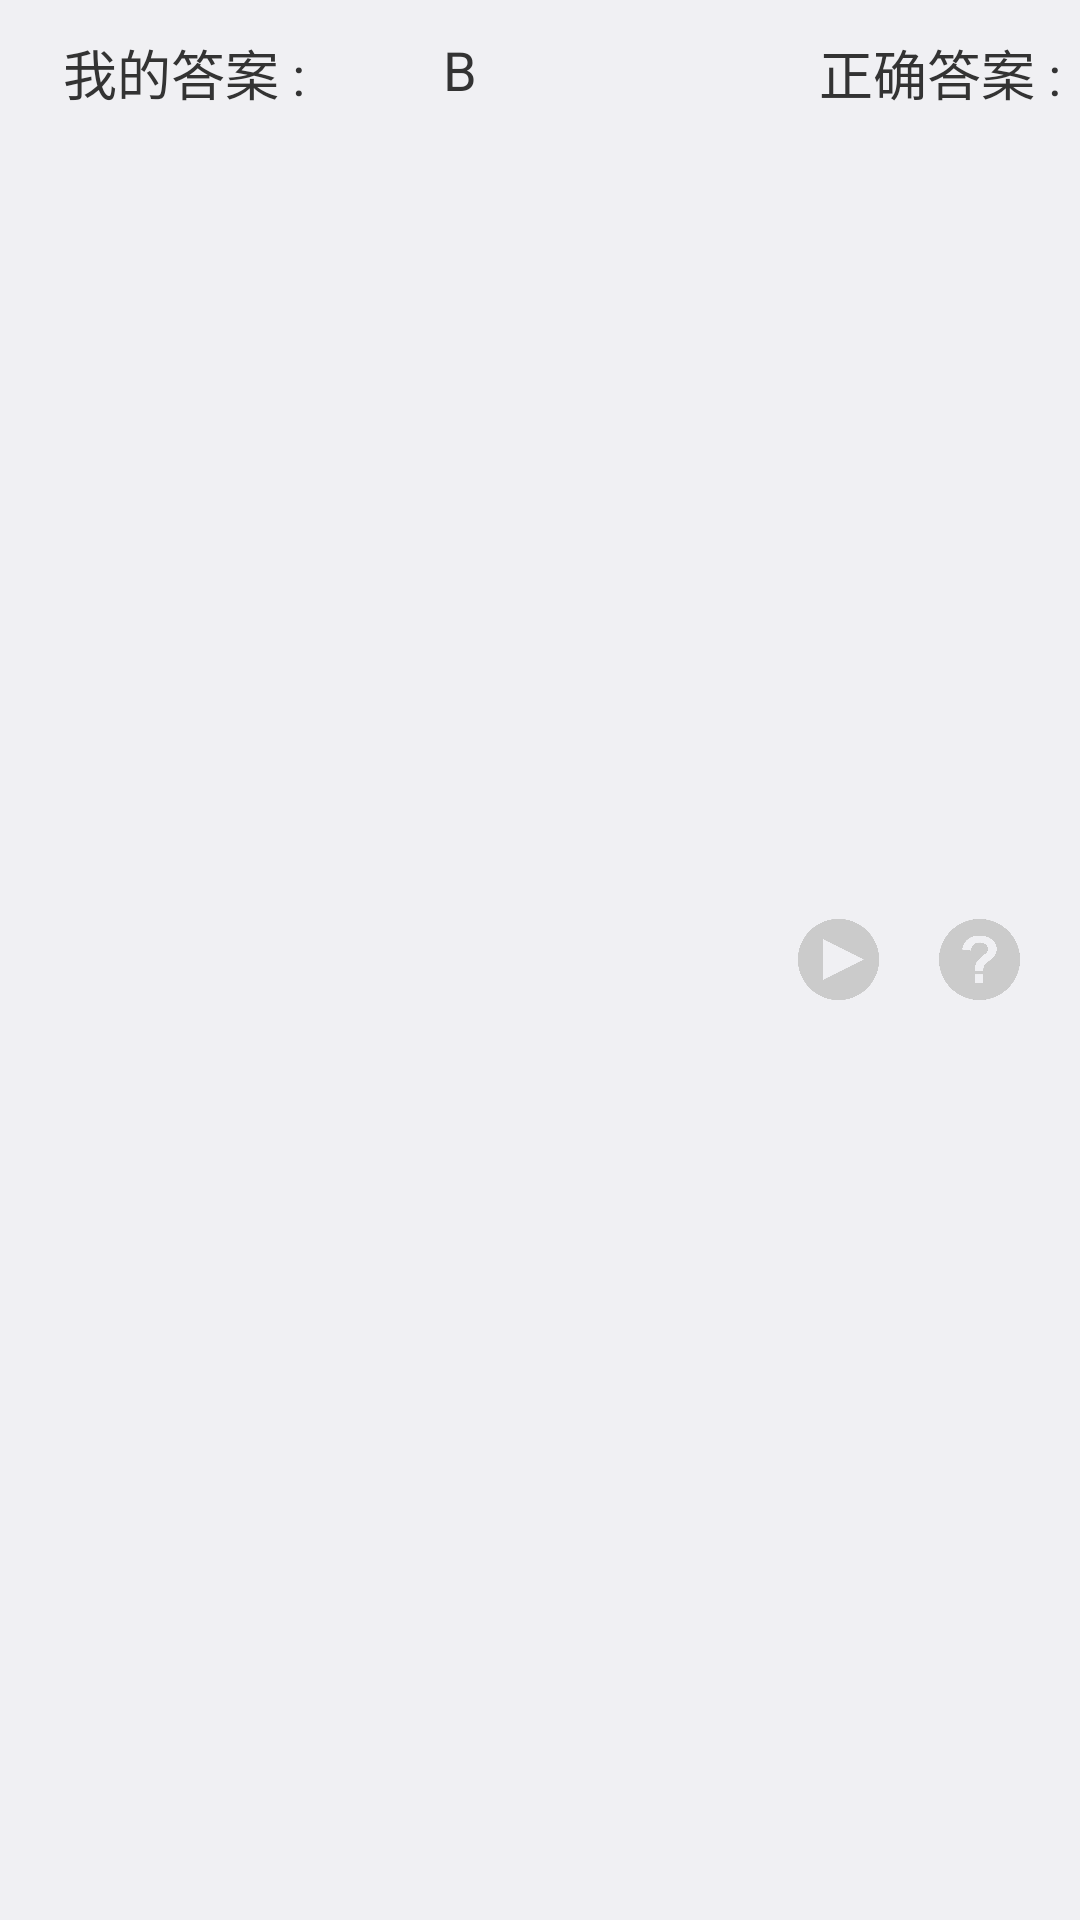

Named icons in this screenshot (1080 × 1920) and their bounding boxes, (x1, y1, x2, y2):
select play: (798, 919, 879, 1000)
select question: (939, 919, 1020, 1000)
